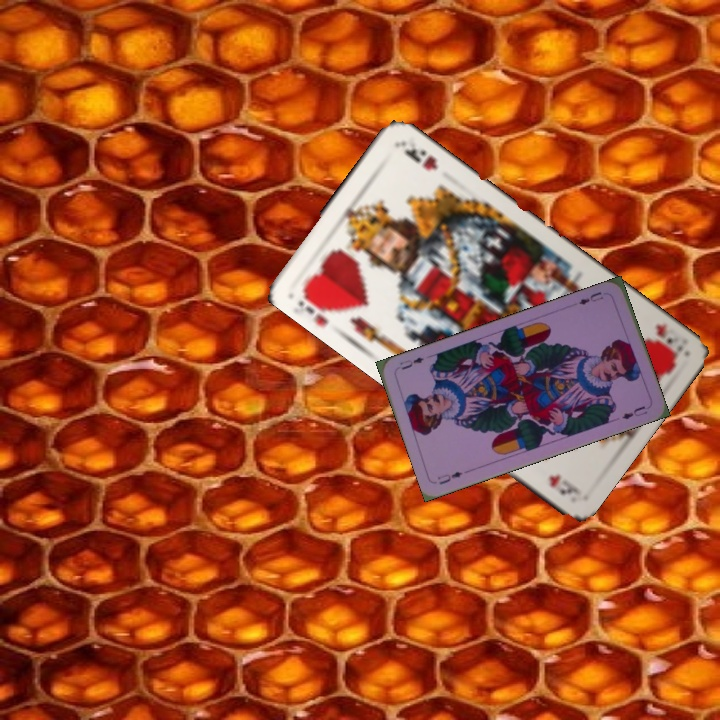EU: (574, 287, 606, 308), (433, 467, 465, 487)
HK: (293, 284, 343, 329), (644, 319, 689, 360)
